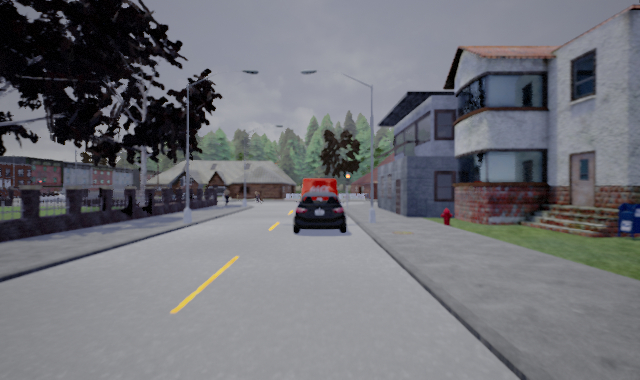bike: (249, 189, 264, 202)
pedestrian: (221, 186, 232, 206)
traffic_light: (345, 173, 352, 186)
vehicle: (290, 191, 349, 236), (298, 177, 341, 218)
